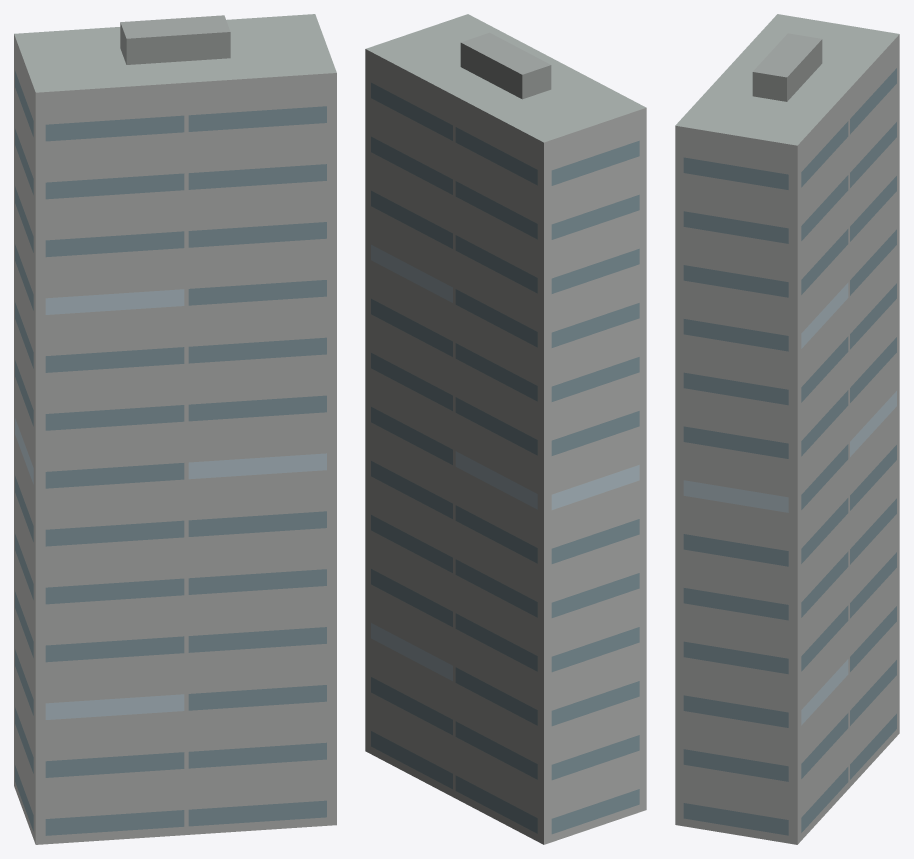
Rendered from fallback-jamsil-els-110.glb.
The picture shows the model from 3 angles, left to right: view 1: azimuth 30°, elevation 25°; view 2: azimuth 150°, elevation 25°; view 3: azimuth 270°, elevation 25°; orthographic projection. The views are drawn at different scales.
Parts seen in each view (by area): view 1: fallback-jamsil-els-110; view 2: fallback-jamsil-els-110; view 3: fallback-jamsil-els-110.
Boxes of the visible parts, box(x1,y1,x2,y2) form: fallback-jamsil-els-110: box(14, 14, 336, 844); fallback-jamsil-els-110: box(365, 14, 646, 844); fallback-jamsil-els-110: box(675, 14, 899, 844).
Size of the model in its own units: 27.71 by 71 by 19.97.
